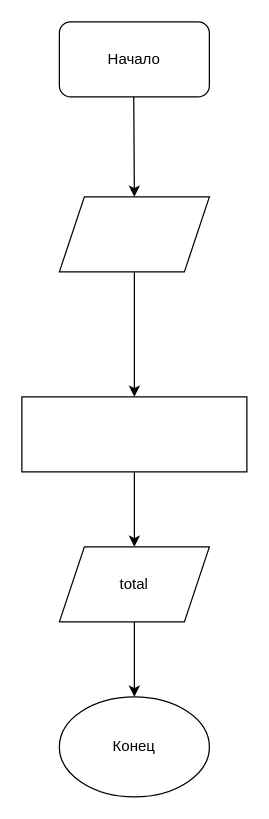
Some shapes in this 269 by 819 pixel diagram are drawn without their labels. The shapes that lost their labels are listed below. From the top down, each one's box as (x1, y1, x2, y2) in pixels, then its label:
(58, 196, 209, 272): distance, oil, price
(21, 396, 247, 472): total = oil / 100 * distance * price
